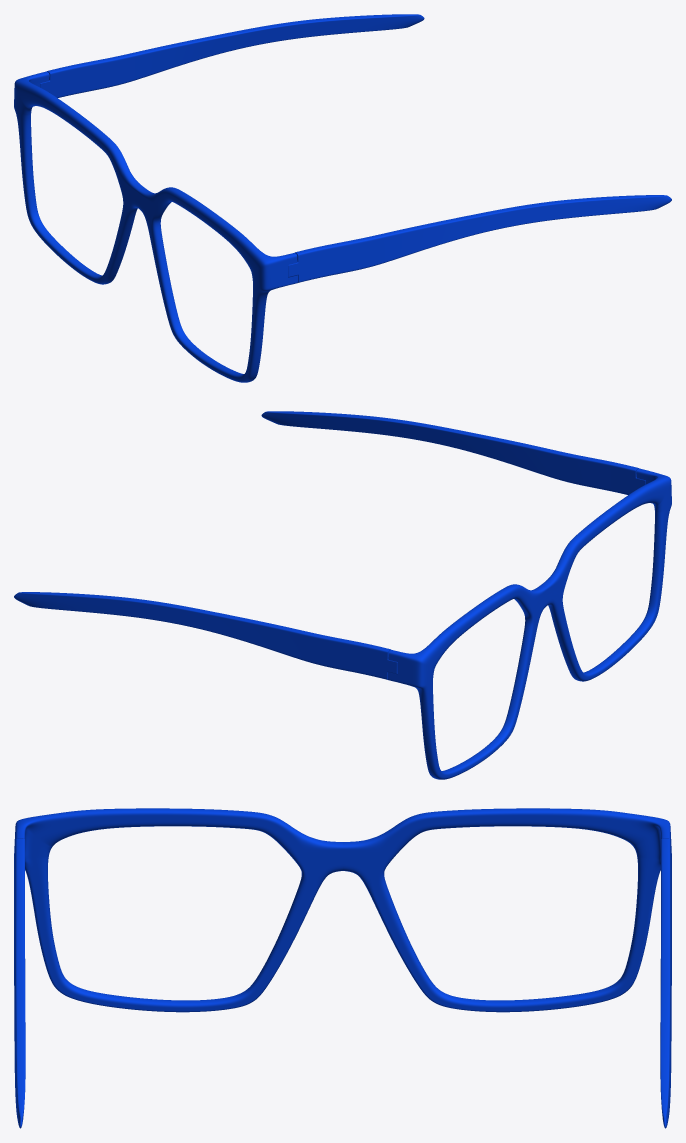
The model's file is uploads_files_4292709_sunglasses1.fbx.
The picture shows the model from 3 angles, top to bottom: view 1: azimuth 30°, elevation 25°; view 2: azimuth 150°, elevation 25°; view 3: azimuth 270°, elevation 25°; orthographic projection. The views are drawn at different scales.
Visible parts, largest first — view 1: Cube.005, Cube.001, Cube.006; view 2: Cube.005, Cube.006, Cube.001; view 3: Cube.005, Cube.006, Cube.001.
Boxes of the visible parts, x1,y1,x2,y2 form: Cube.005: (14,71,297,382); Cube.001: (288,195,671,282); Cube.006: (40,14,424,97); Cube.005: (388,468,671,779); Cube.006: (14,592,397,679); Cube.001: (261,411,645,494); Cube.005: (14,808,671,1012); Cube.006: (660,838,671,1128); Cube.001: (14,838,25,1128).
Bounding box in the file's own units: 140 × 50.41 × 149.
